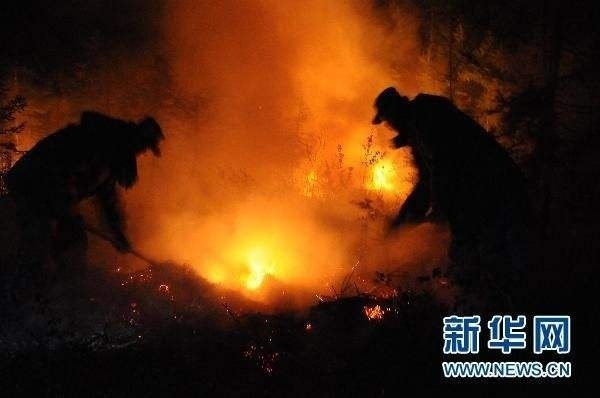fire: (203, 224, 300, 298), (360, 151, 404, 196), (295, 162, 325, 200), (362, 299, 390, 321)
